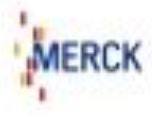Merck: (11, 10, 145, 106)
